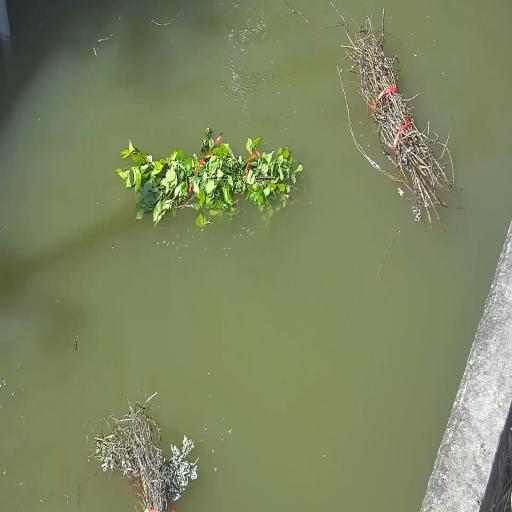twig: (337, 11, 454, 222), (117, 126, 303, 227), (92, 394, 197, 512)
